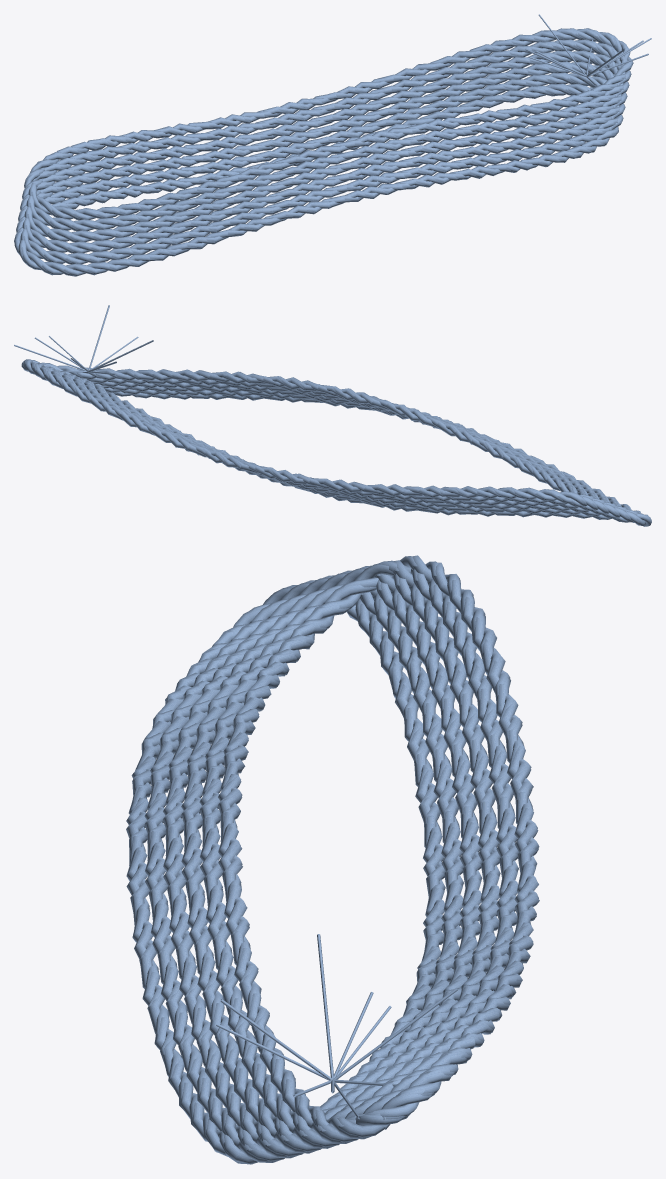
Rendered from hilo_lino_v003_candidate.glb.
3 views of the same model, one above another, from view 1: azimuth 30°, elevation 25°; view 2: azimuth 150°, elevation 25°; view 3: azimuth 270°, elevation 25° (orthographic). The views are drawn at different scales.
Visible parts, largest first — view 1: lino | coil 6 | twisted ply 2, lino | coil 6 | twisted ply 1, lino | coil 5 | twisted ply 1, lino | coil 5 | twisted ply 2, lino | coil 4 | twisted ply 2, lino | coil 4 | twisted ply 1, lino | coil 3 | twisted ply 1, lino | coil 2 | twisted ply 2, lino | coil 3 | twisted ply 2, lino | coil 2 | twisted ply 1, lino | coil 1 | twisted ply 1, lino | coil 1 | twisted ply 2; view 2: lino | coil 6 | twisted ply 1, lino | coil 6 | twisted ply 2, lino | coil 5 | twisted ply 1, lino | coil 1 | twisted ply 1, lino | coil 5 | twisted ply 2, lino | coil 1 | twisted ply 2, lino | coil 4 | twisted ply 2, lino | coil 3 | twisted ply 2, lino | coil 2 | twisted ply 2, lino | coil 4 | twisted ply 1, lino | coil 2 | twisted ply 1, lino | coil 3 | twisted ply 1; view 3: lino | coil 6 | twisted ply 2, lino | coil 6 | twisted ply 1, lino | coil 5 | twisted ply 2, lino | coil 4 | twisted ply 2, lino | coil 3 | twisted ply 2, lino | coil 2 | twisted ply 2, lino | coil 1 | twisted ply 1, lino | coil 4 | twisted ply 1, lino | coil 5 | twisted ply 1, lino | coil 1 | twisted ply 2, lino | coil 3 | twisted ply 1, lino | coil 2 | twisted ply 1.
Part boxes in pixels (x1,y1,x2,y2): lino | coil 6 | twisted ply 2: (24, 28, 633, 219); lino | coil 6 | twisted ply 1: (28, 28, 630, 220); lino | coil 5 | twisted ply 1: (26, 39, 627, 231); lino | coil 5 | twisted ply 2: (22, 39, 631, 230); lino | coil 4 | twisted ply 2: (20, 50, 629, 241); lino | coil 4 | twisted ply 1: (24, 50, 625, 242); lino | coil 3 | twisted ply 1: (22, 61, 623, 253); lino | coil 2 | twisted ply 2: (16, 72, 625, 263); lino | coil 3 | twisted ply 2: (18, 61, 627, 252); lino | coil 2 | twisted ply 1: (20, 73, 621, 264); lino | coil 1 | twisted ply 1: (18, 83, 619, 276); lino | coil 1 | twisted ply 2: (14, 83, 623, 275); lino | coil 6 | twisted ply 1: (21, 359, 594, 503); lino | coil 6 | twisted ply 2: (23, 359, 593, 506); lino | coil 5 | twisted ply 1: (40, 363, 605, 507); lino | coil 1 | twisted ply 1: (87, 380, 651, 526); lino | coil 5 | twisted ply 2: (37, 363, 604, 509); lino | coil 1 | twisted ply 2: (82, 378, 648, 526); lino | coil 4 | twisted ply 2: (49, 366, 615, 513); lino | coil 3 | twisted ply 2: (60, 372, 626, 517); lino | coil 2 | twisted ply 2: (71, 374, 637, 522); lino | coil 4 | twisted ply 1: (54, 369, 616, 511); lino | coil 2 | twisted ply 1: (76, 377, 638, 522); lino | coil 3 | twisted ply 1: (65, 373, 627, 515); lino | coil 6 | twisted ply 2: (218, 555, 539, 1139); lino | coil 6 | twisted ply 1: (217, 561, 539, 1126); lino | coil 5 | twisted ply 2: (199, 560, 518, 1143); lino | coil 4 | twisted ply 2: (181, 565, 500, 1148); lino | coil 3 | twisted ply 2: (163, 570, 482, 1153); lino | coil 2 | twisted ply 2: (144, 575, 463, 1158); lino | coil 1 | twisted ply 1: (126, 585, 445, 1164); lino | coil 4 | twisted ply 1: (181, 570, 500, 1136); lino | coil 5 | twisted ply 1: (199, 566, 518, 1131); lino | coil 1 | twisted ply 2: (126, 580, 445, 1162); lino | coil 3 | twisted ply 1: (163, 575, 482, 1140); lino | coil 2 | twisted ply 1: (144, 580, 463, 1146).
Bounding box in the file's own units: 0.2098 × 0.0282 × 0.061.
1 material, 1 textured.
